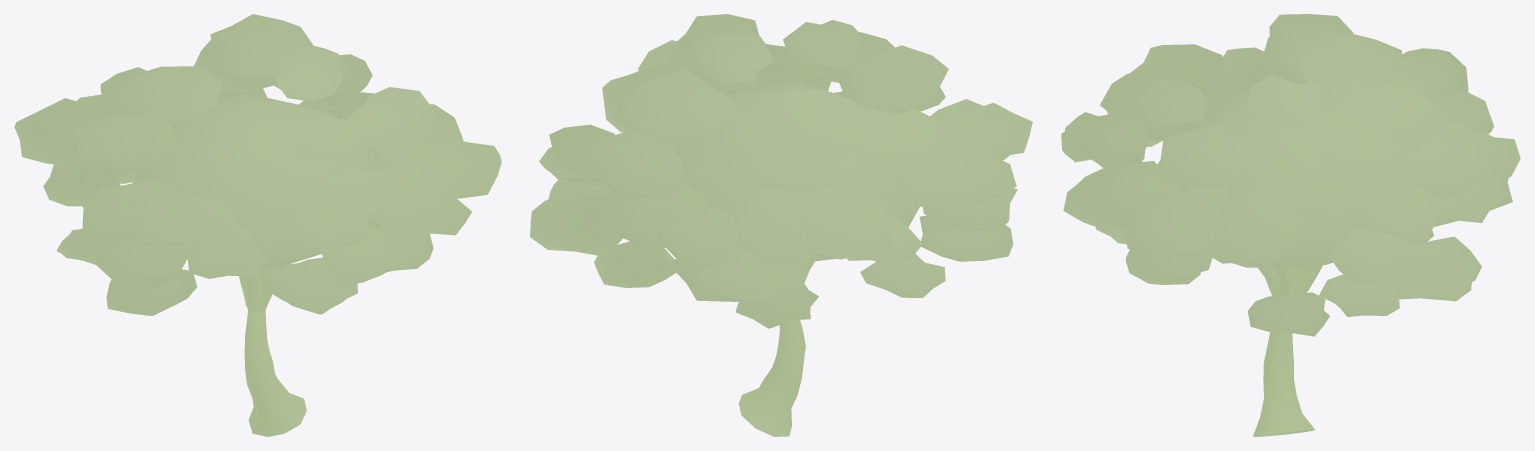
The model's file is Blender_Mesquite_3.glb.
The picture shows the model from 3 angles, left to right: view 1: azimuth 30°, elevation 25°; view 2: azimuth 150°, elevation 25°; view 3: azimuth 270°, elevation 25°; orthographic projection. The views are drawn at different scales.
Visible parts, largest first — view 1: Blender_Mesquite_3; view 2: Blender_Mesquite_3; view 3: Blender_Mesquite_3.
Part boxes in pixels (bbox=[...]): Blender_Mesquite_3: bbox=[14, 14, 501, 436]; Blender_Mesquite_3: bbox=[530, 14, 1032, 436]; Blender_Mesquite_3: bbox=[1061, 14, 1520, 436].
Size of the model in its own units: 9.57 by 8.67 by 9.52.
